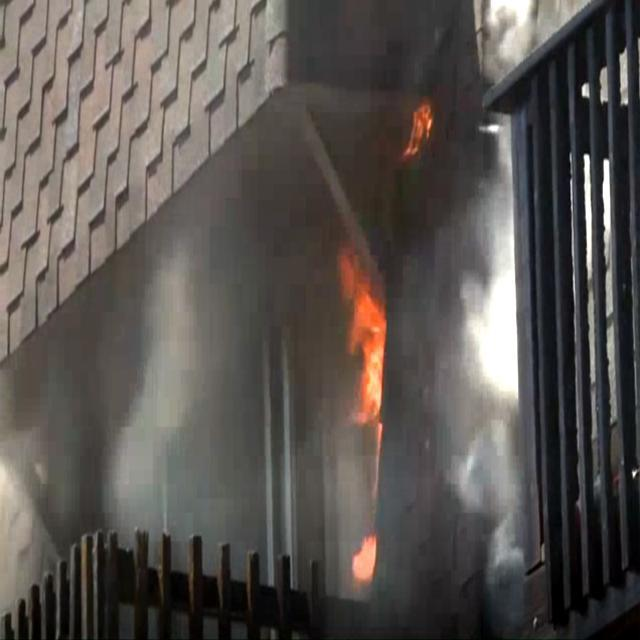Fire: (335, 244, 388, 448), (402, 100, 434, 160), (352, 534, 378, 580)
Smoke: (116, 242, 198, 536), (445, 418, 525, 608)
